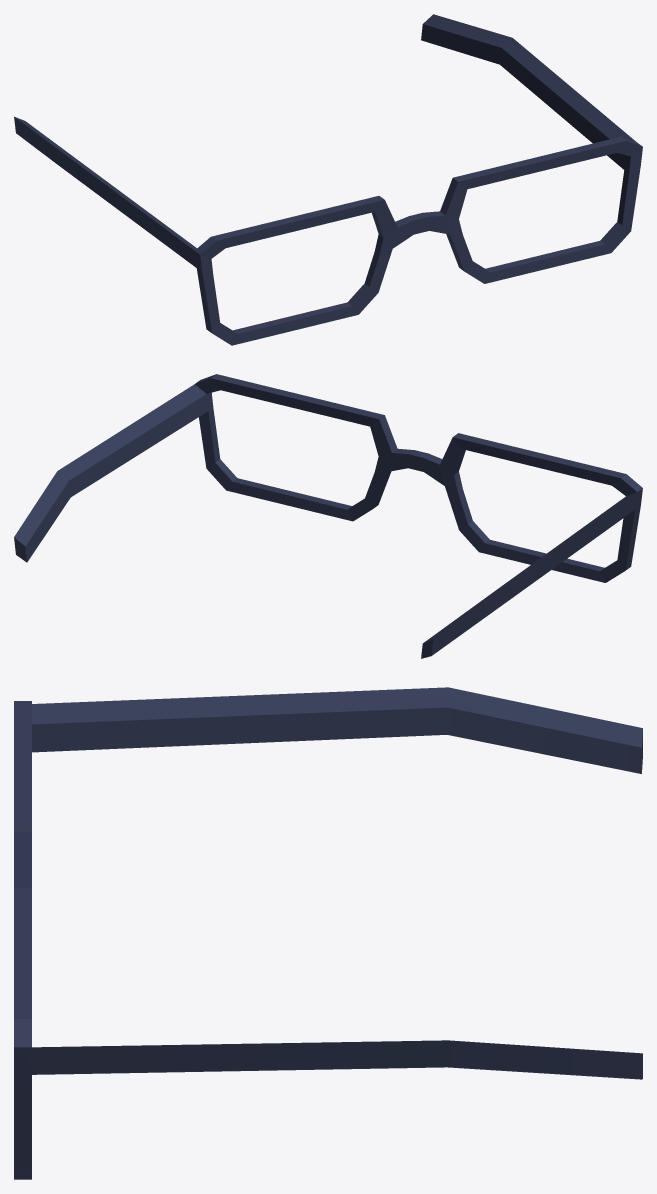
The model's file is Accesorios_LentesRectangulares.fbx.
3 views of the same model, one above another, from view 1: azimuth 30°, elevation 25°; view 2: azimuth 150°, elevation 25°; view 3: azimuth 270°, elevation 25° (orthographic). The views are drawn at different scales.
Parts seen in each view (by area): view 1: Lentes_rectangulares; view 2: Lentes_rectangulares; view 3: Lentes_rectangulares.
Boxes of the visible parts, <box> form: Lentes_rectangulares: <box>14,14,642,345</box>; Lentes_rectangulares: <box>14,374,642,658</box>; Lentes_rectangulares: <box>14,687,642,1179</box>.
Size of the model in its own units: 2.94 by 0.6701 by 2.21.
